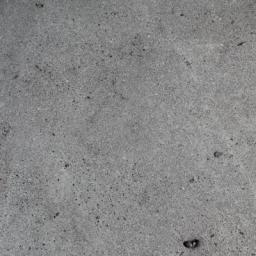FOD: (182, 238, 202, 250)
